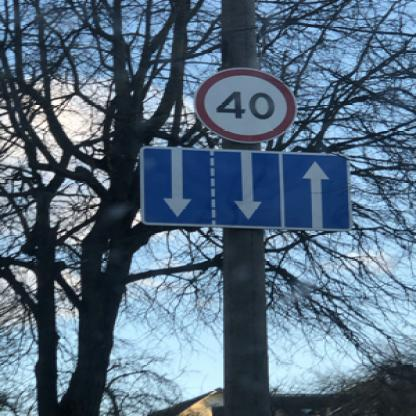Speed Limit 40: (197, 69, 297, 142)
